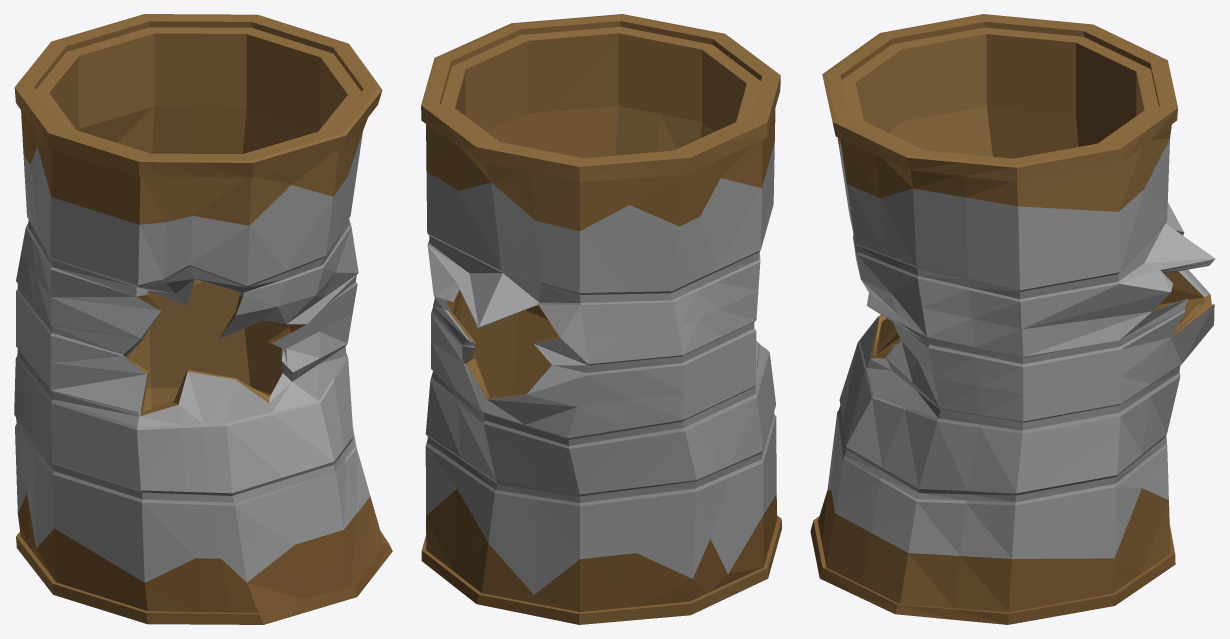
Rendered from shot_can_with_food_b.obj.
3 views of the same model, side by side, from view 1: azimuth 30°, elevation 25°; view 2: azimuth 150°, elevation 25°; view 3: azimuth 270°, elevation 25° (orthographic).
Visible parts, largest first — view 1: shot_can_with_food_b_Material; view 2: shot_can_with_food_b_Material; view 3: shot_can_with_food_b_Material.
Part boxes in pixels (x1,y1,x2,y2): shot_can_with_food_b_Material: (14,14,392,624); shot_can_with_food_b_Material: (421,14,781,624); shot_can_with_food_b_Material: (810,14,1215,624).
Size of the model in its own units: 0.1106 by 0.1517 by 0.122.
